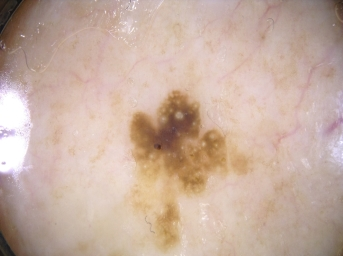seborrheic keratosis: (115, 74, 257, 251)
